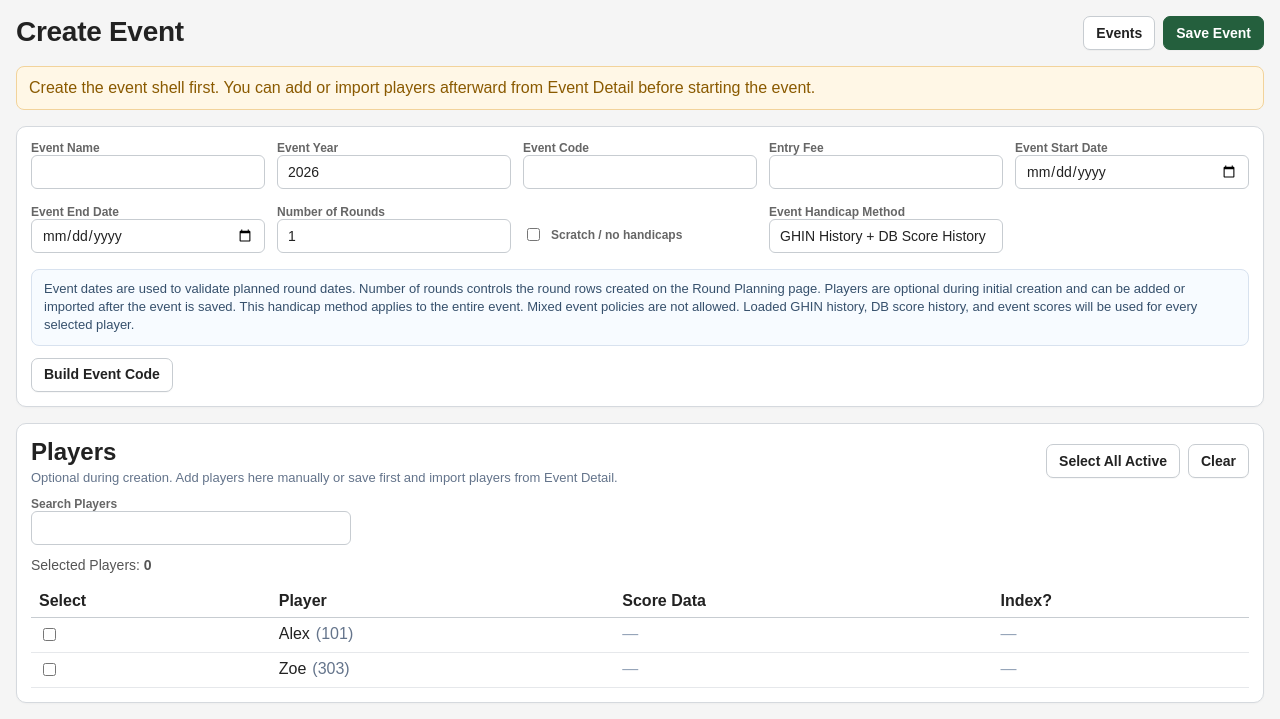
it: Trip create/edit page characterization (before extraction) › builds an uppercase event code from name and year
expect the heading "Create Event" is shown: met, box [16,16,184,47]
Type "Myrtle Beach!" into the field labelled "Event Name" at (148, 172), box [31,155,265,189]
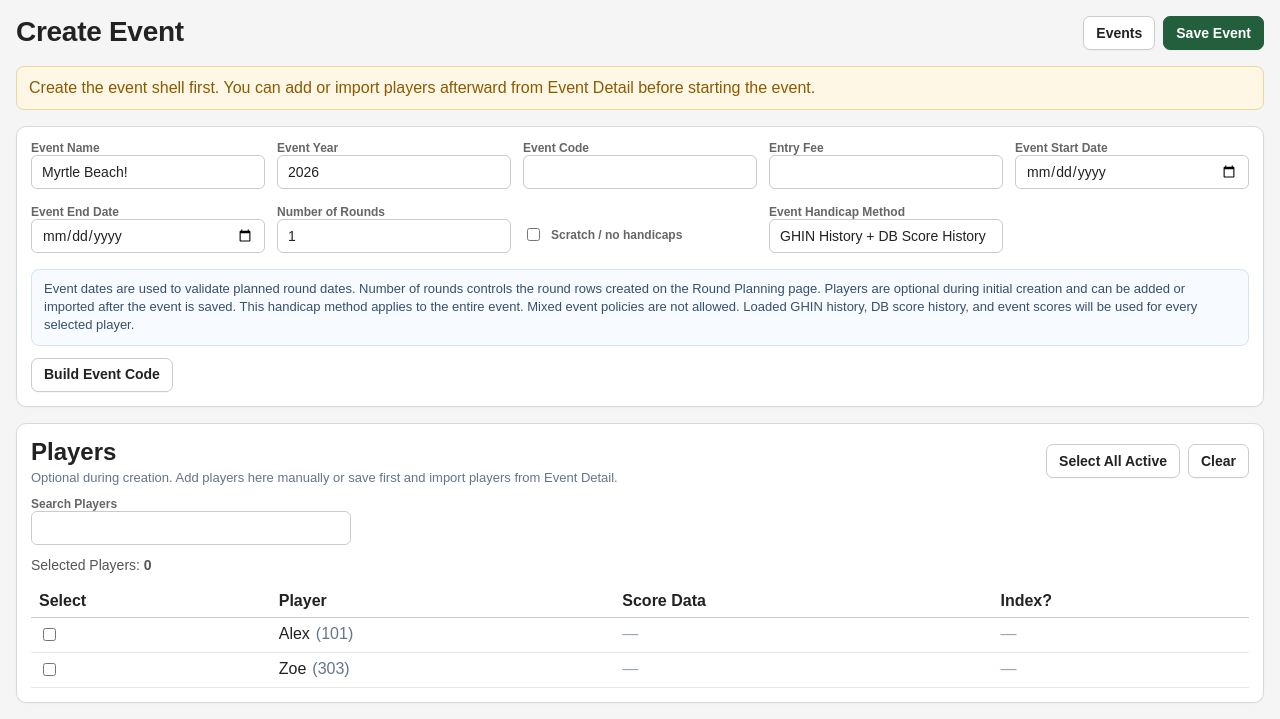
Replace the text in the number field labelled "Event Year" with "2027" at (394, 172), box [277,155,511,189]
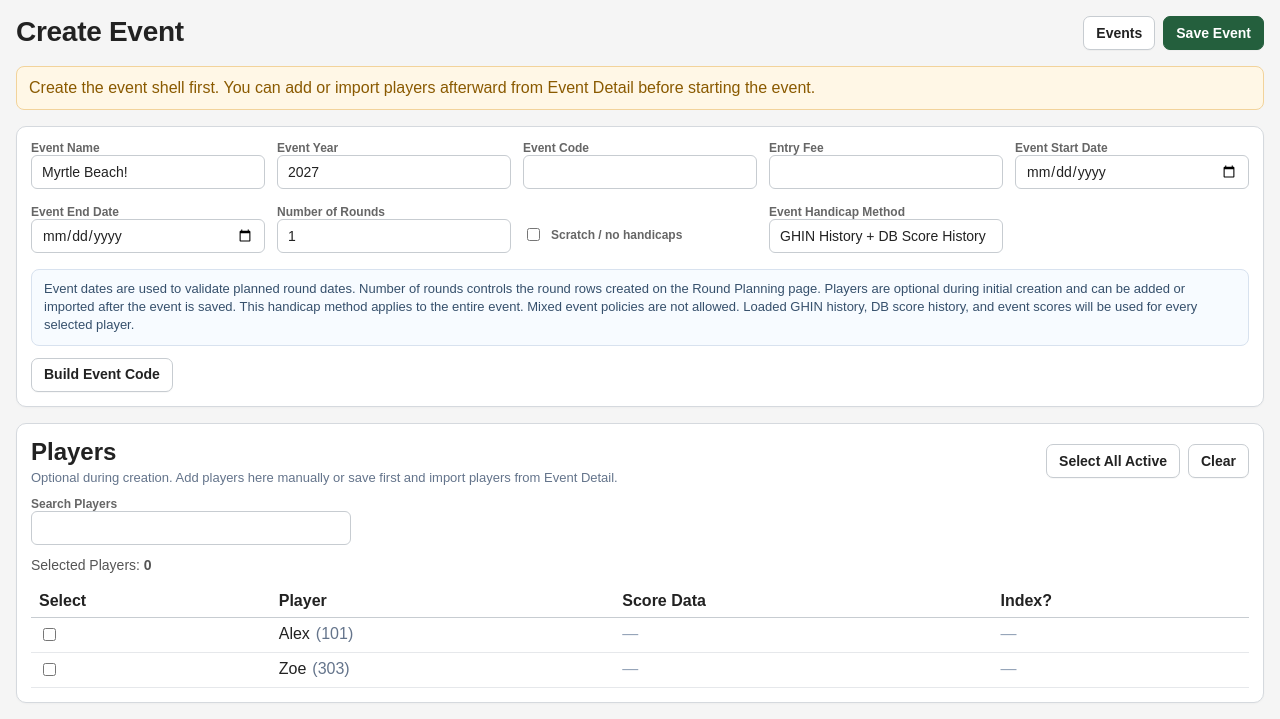
Click the button "Build Event Code" at (102, 375), box [31,358,173,392]
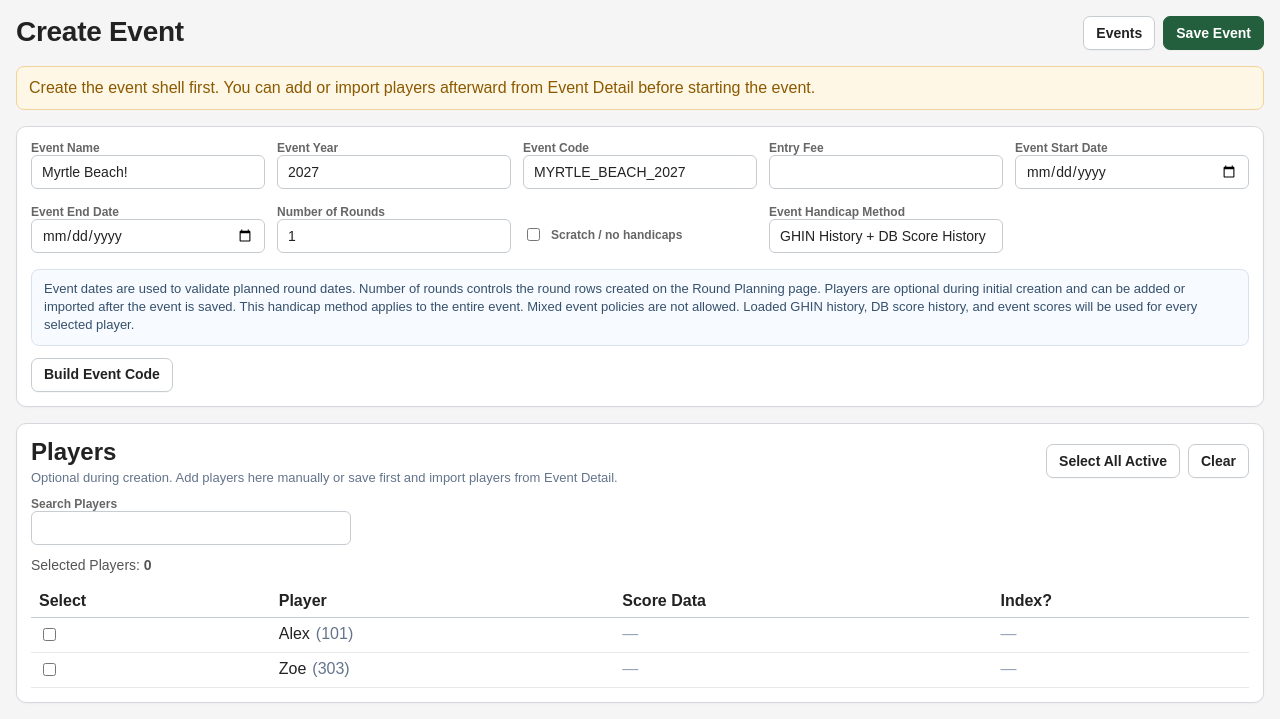
expect the field labelled "Event Code" holds "MYRTLE_BEACH_2027": met, box [523,155,757,189]
